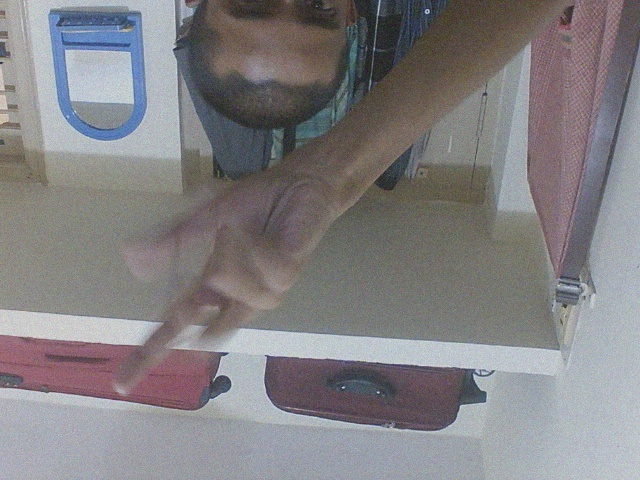hand: (103, 152, 341, 404)
